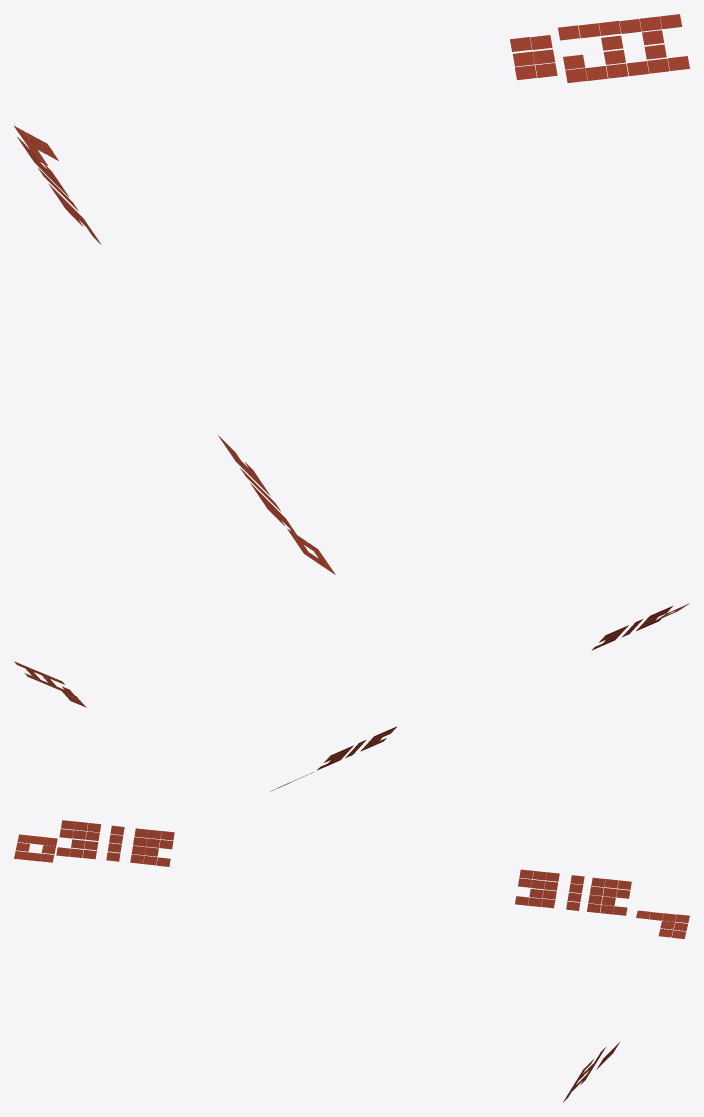
Rendered from pgc_n_pv_oranje.glb.
3 views of the same model, one above another, from view 1: azimuth 30°, elevation 25°; view 2: azimuth 150°, elevation 25°; view 3: azimuth 270°, elevation 25° (orthographic). The views are drawn at different scales.
Visible parts, largest first — view 1: Zonnepanelen (Oranje); view 2: Zonnepanelen (Oranje); view 3: Zonnepanelen (Oranje).
Part boxes in pixels (box(x1,y1,x2,y2)): Zonnepanelen (Oranje): box(14, 14, 689, 574); Zonnepanelen (Oranje): box(14, 603, 689, 791); Zonnepanelen (Oranje): box(14, 820, 689, 1102).
Size of the model in its own units: 80.95 by 5.3 by 90.17.
